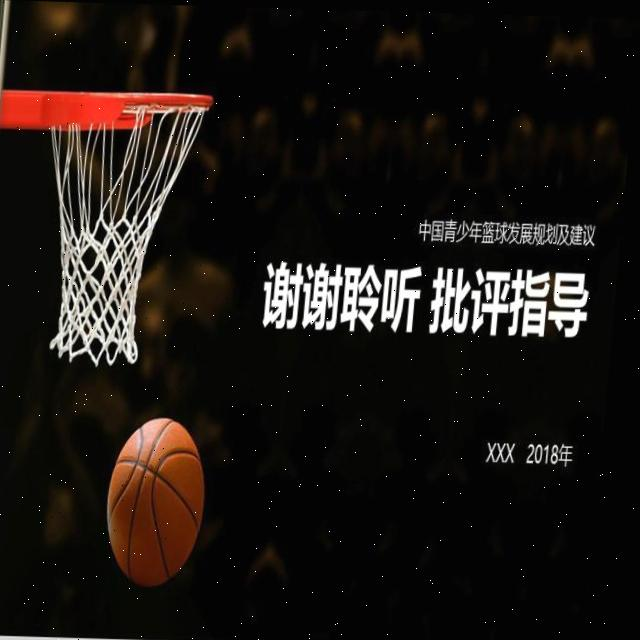Basketball: (102, 418, 213, 589)
